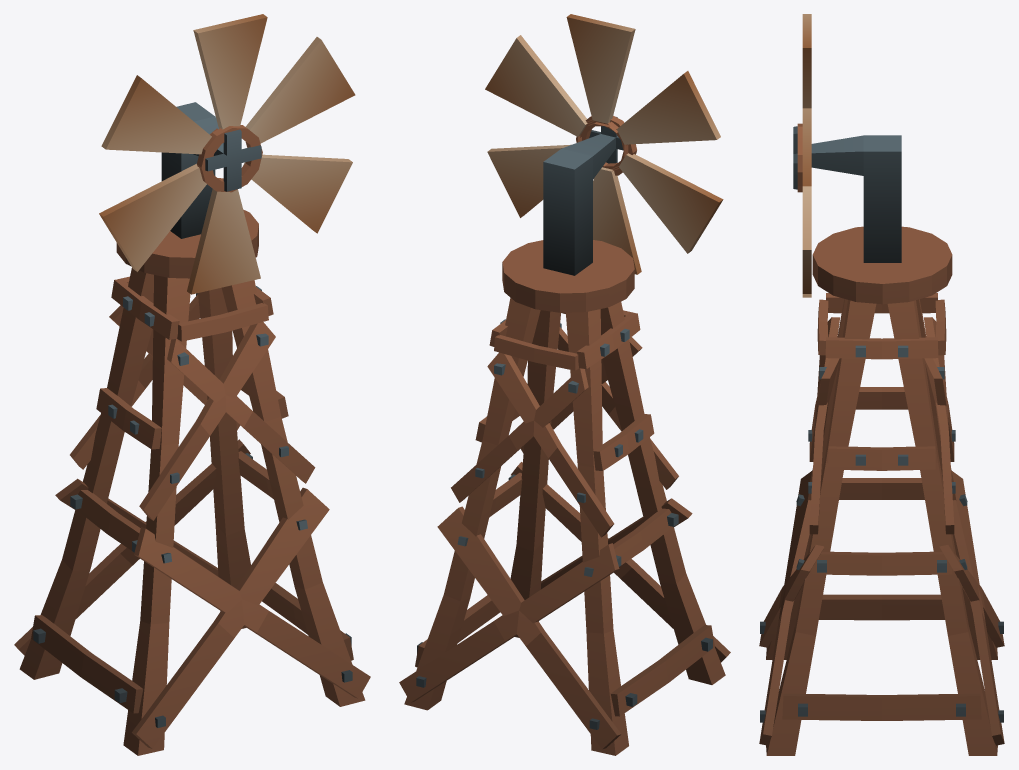
The model's file is Low Poly Windmill 3D Model.glb.
3 views of the same model, side by side, from view 1: azimuth 30°, elevation 25°; view 2: azimuth 150°, elevation 25°; view 3: azimuth 270°, elevation 25° (orthographic). The views are drawn at different scales.
Parts seen in each view (by area): view 1: Cube.010_0; view 2: Cube.010_0; view 3: Cube.010_0.
Part boxes in pixels (left/top/right/bottom): Cube.010_0: left=14, top=14, right=370, bottom=755; Cube.010_0: left=399, top=14, right=730, bottom=755; Cube.010_0: left=759, top=14, right=1004, bottom=755.
Bounding box in the file's own units: 8.93 × 23.34 × 7.73.
1 material, 1 textured.
